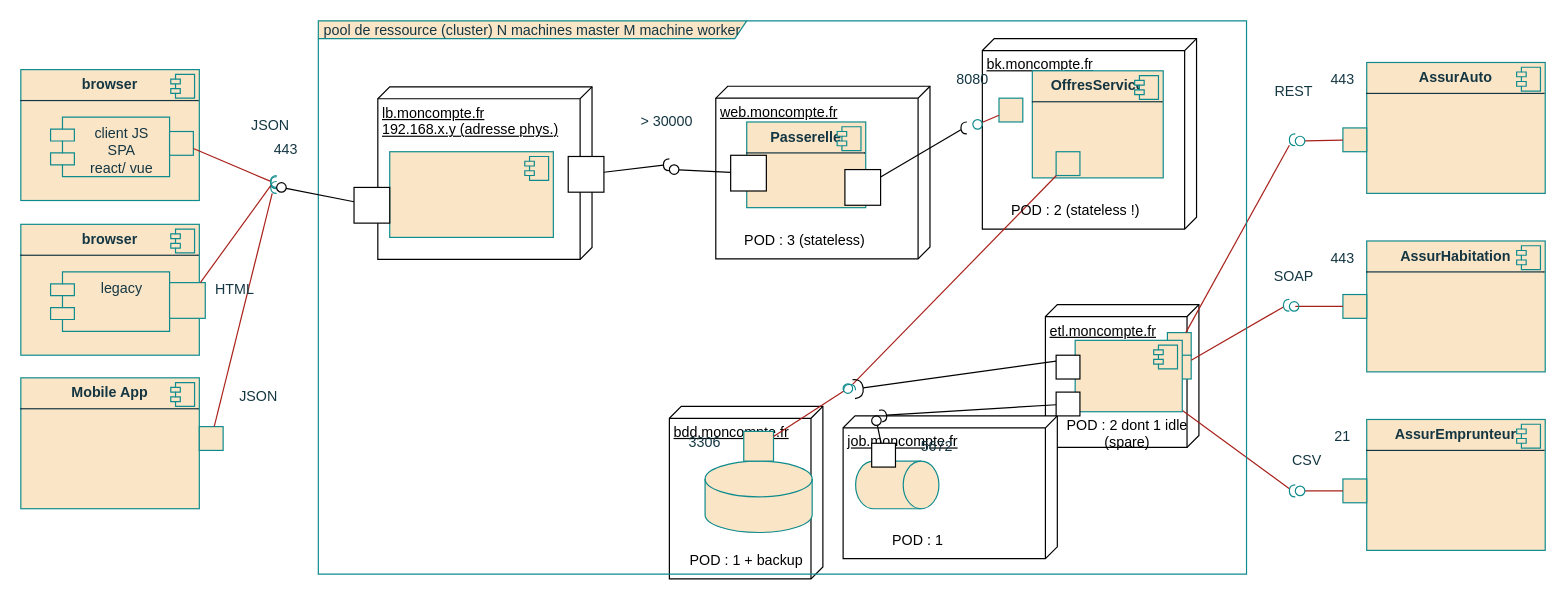
This 1566x600 diagram has some shape labels left out. The shapes that lost their labels are listed below. From the top down, each one's centre as x and y in pixels, then its label:
[471,194]: Load Balancer
[1128,375]: ETL
